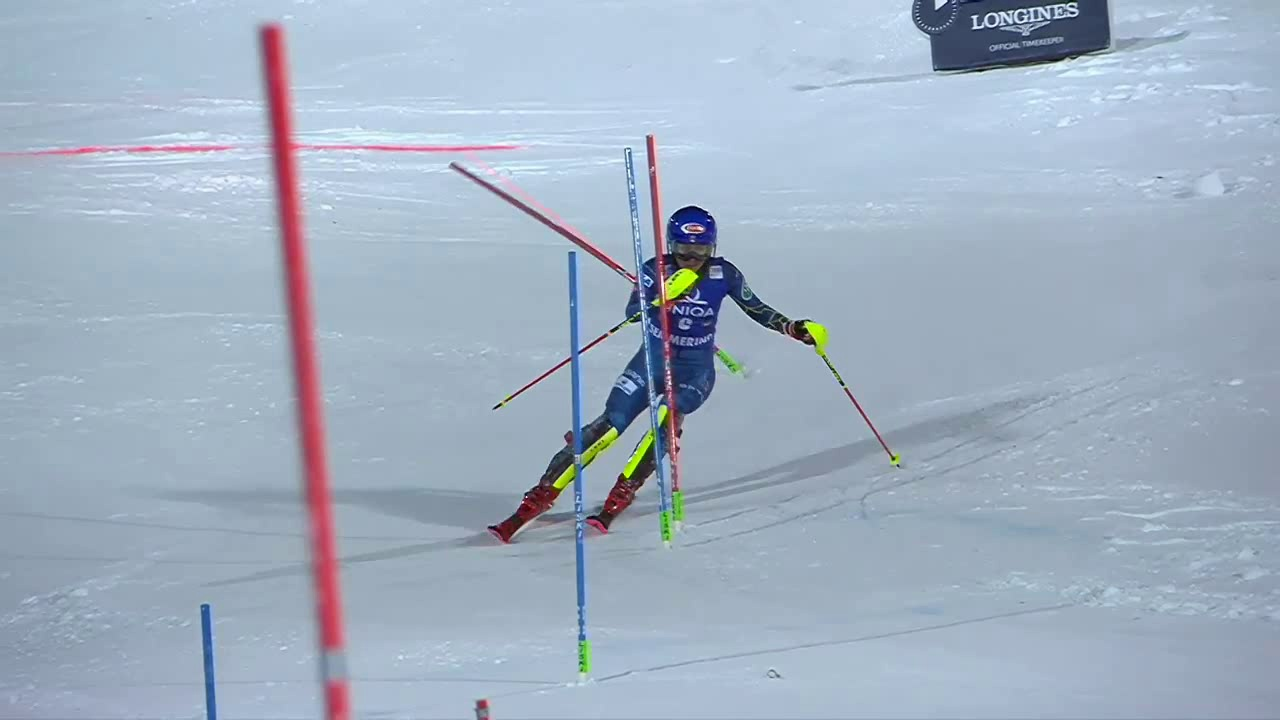longines: (942, 1, 1108, 61)
uniqa: (665, 294, 718, 335)
